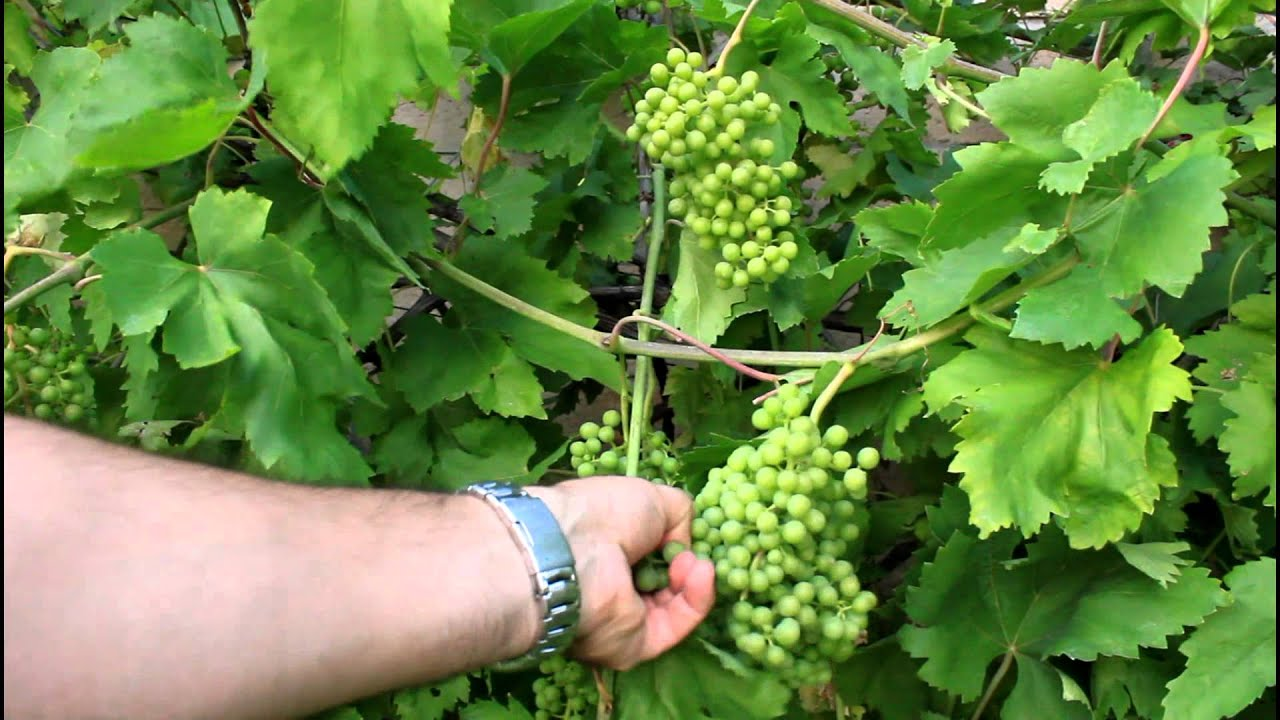grapes: (686, 395, 909, 670), (630, 36, 832, 294)
